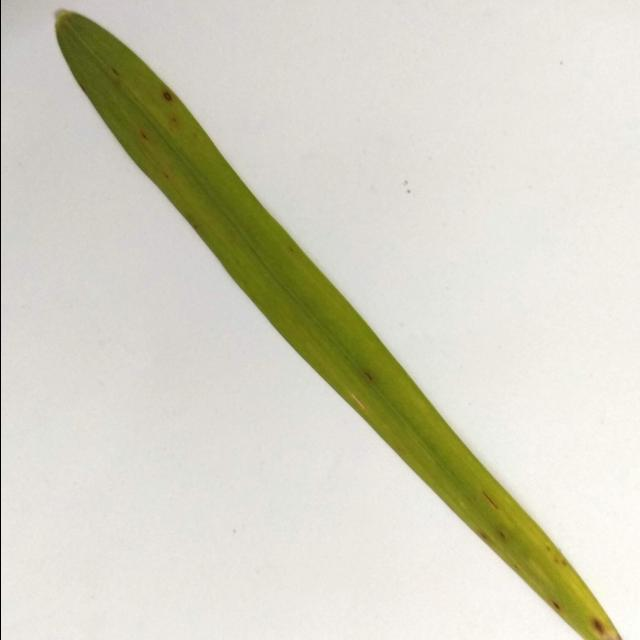Brown spot: (59, 18, 640, 640)
